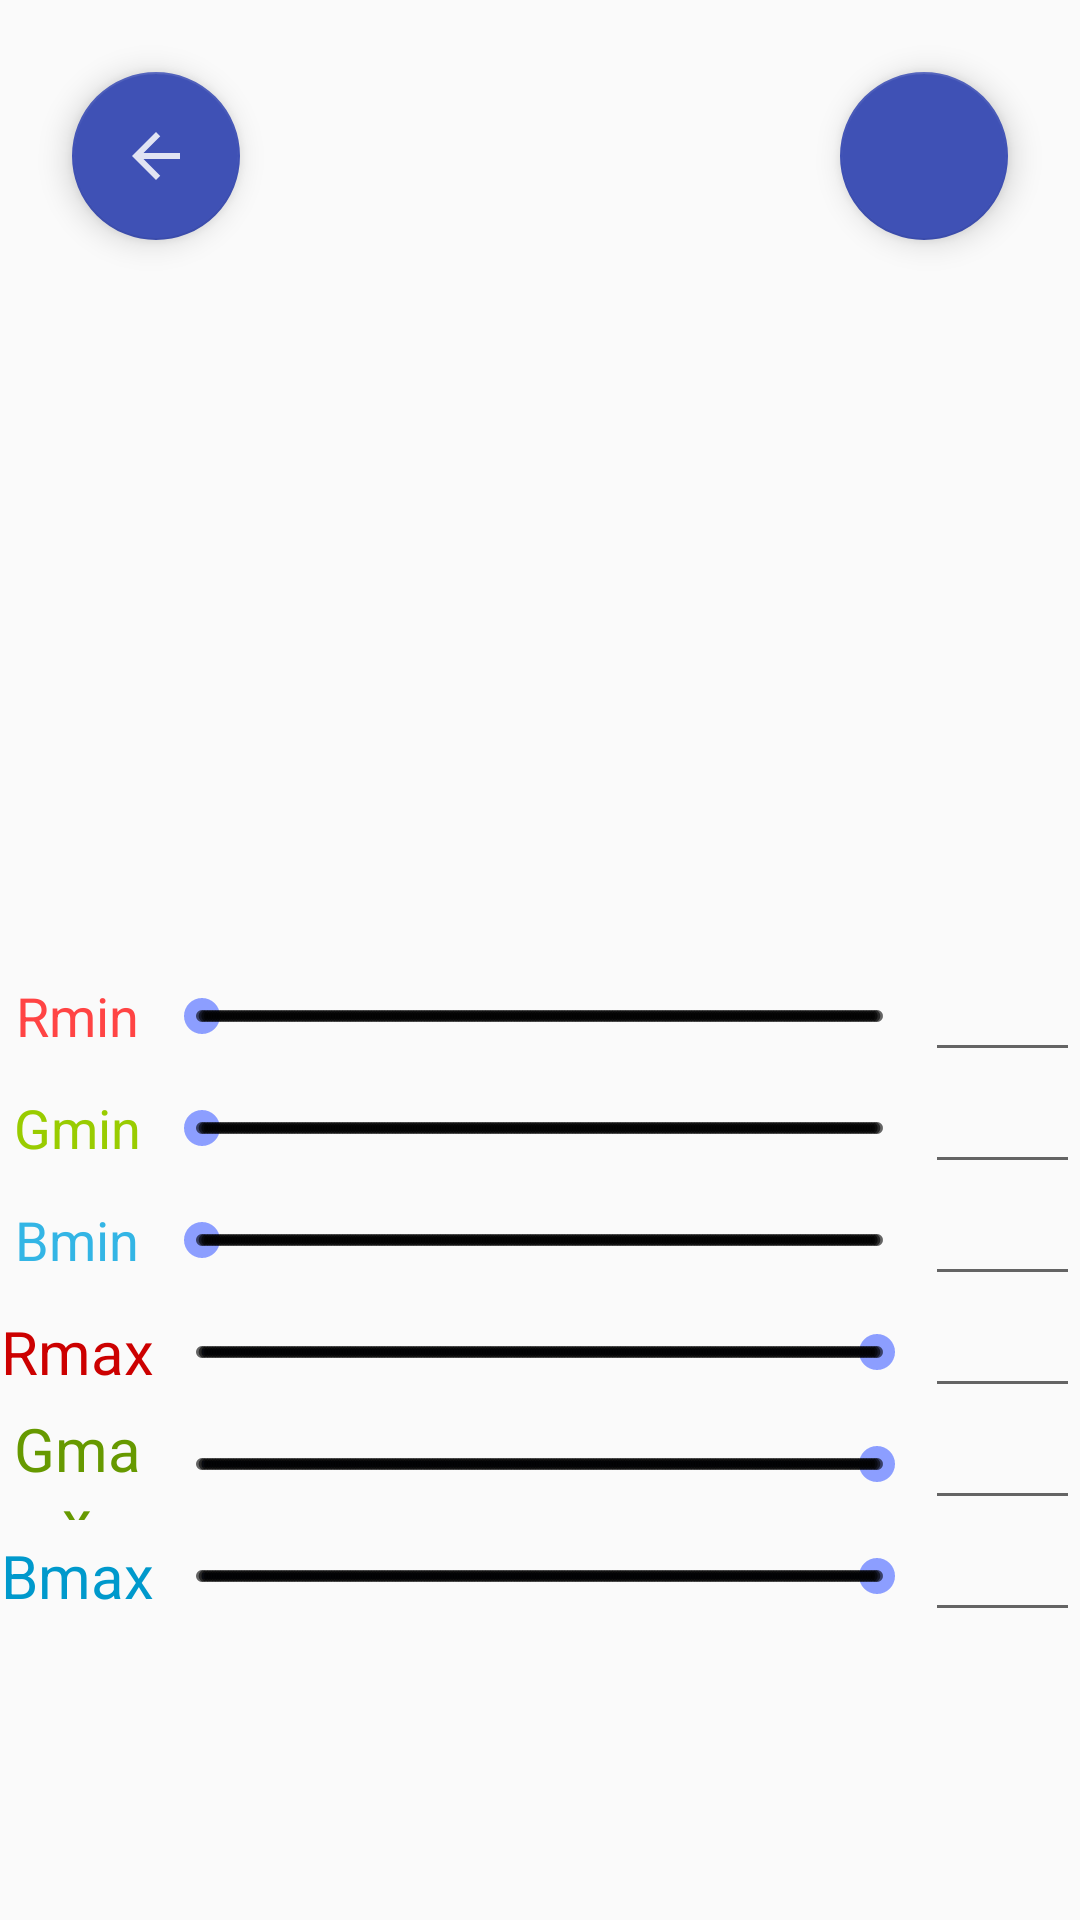

Named icons in this screenshot (1080px×1920px) and their bounding boxes, (x1, y1, x2, y2):
back: (72, 72, 240, 240)
